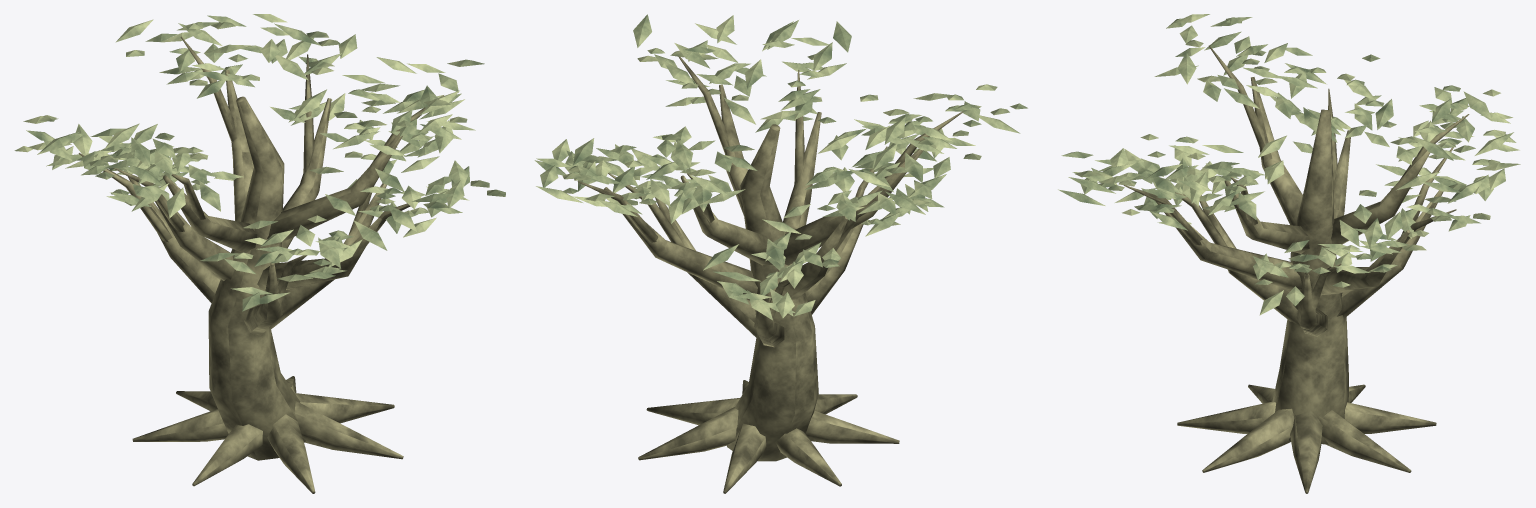
File: pale-tree-BNlF6U6G.glb
3 views of the same model, side by side, from view 1: azimuth 30°, elevation 25°; view 2: azimuth 150°, elevation 25°; view 3: azimuth 270°, elevation 25° (orthographic). The views are drawn at different scales.
Parts seen in each view (by area): view 1: pale-tree__LS_pale-root, pale-tree__LS_leaf; view 2: pale-tree__LS_pale-root, pale-tree__LS_leaf; view 3: pale-tree__LS_pale-root, pale-tree__LS_leaf.
Part boxes in pixels (x1,y1,x2,y2): pale-tree__LS_pale-root: (78, 36, 443, 493); pale-tree__LS_leaf: (14, 14, 505, 311); pale-tree__LS_pale-root: (577, 56, 962, 493); pale-tree__LS_leaf: (534, 14, 1027, 320); pale-tree__LS_pale-root: (1123, 45, 1469, 493); pale-tree__LS_leaf: (1058, 14, 1520, 315).
Size of the model in its own units: 5.97 by 5.27 by 6.3.
Materials: 2 (2 with a texture image).
